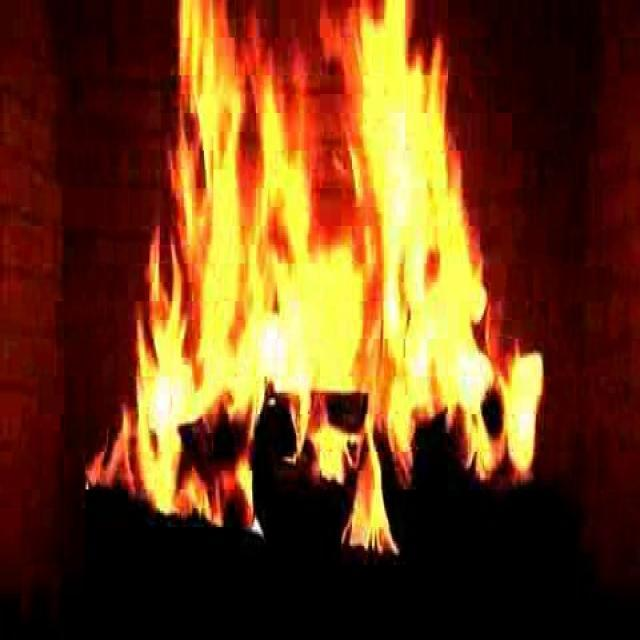Fire: (106, 6, 540, 555)
